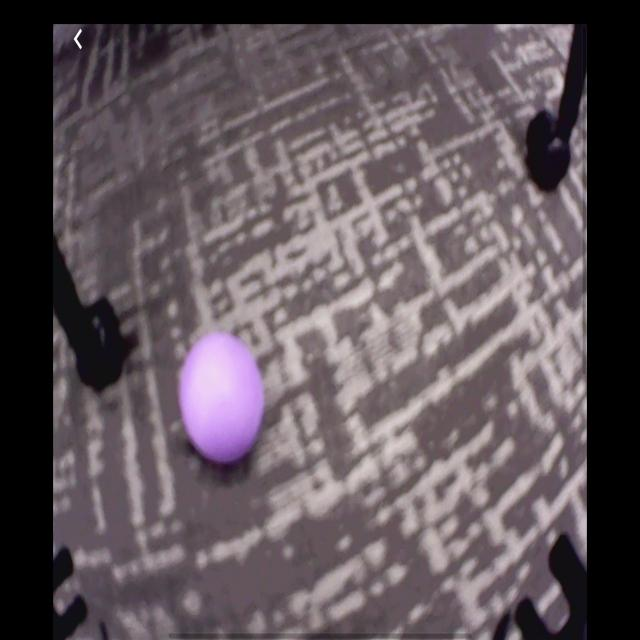ball: (178, 334, 266, 465)
